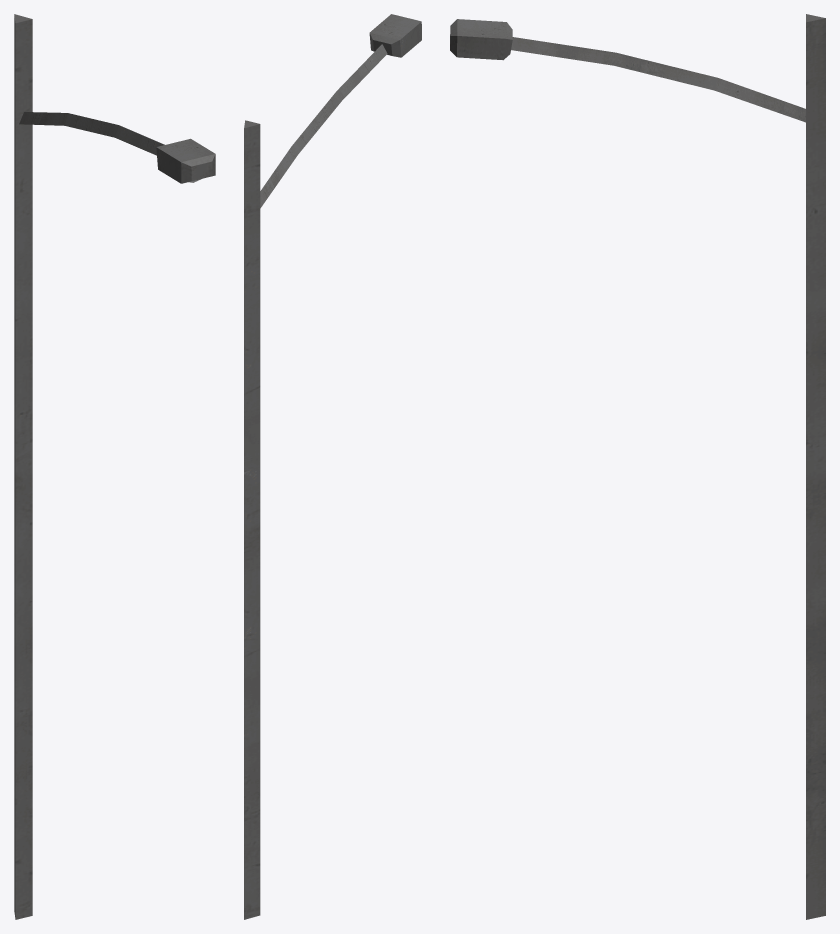
The model's file is lamp_pole_single.fbx.
3 renders of one model, left to right at view 1: azimuth 30°, elevation 25°; view 2: azimuth 150°, elevation 25°; view 3: azimuth 270°, elevation 25°, orthographic. The views are drawn at different scales.
Parts seen in each view (by area): view 1: lamp_pole_single; view 2: lamp_pole_single; view 3: lamp_pole_single.
Boxes of the visible parts, left/top/right/bottom form: lamp_pole_single: left=14, top=14, right=215, bottom=919; lamp_pole_single: left=244, top=14, right=421, bottom=919; lamp_pole_single: left=450, top=14, right=825, bottom=919.
Size of the model in its own units: 40.22 by 1000 by 380.
